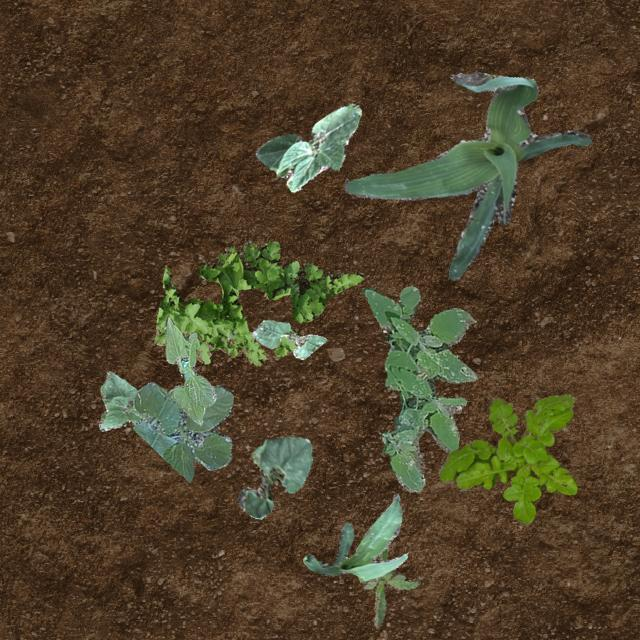crop: (344, 70, 590, 280), (132, 382, 232, 481), (302, 492, 406, 580), (254, 104, 360, 190), (236, 436, 312, 518), (163, 316, 216, 424), (250, 318, 326, 358), (98, 370, 146, 430)
weed: (152, 238, 362, 364), (362, 284, 476, 492), (438, 393, 576, 522), (356, 544, 419, 626)
